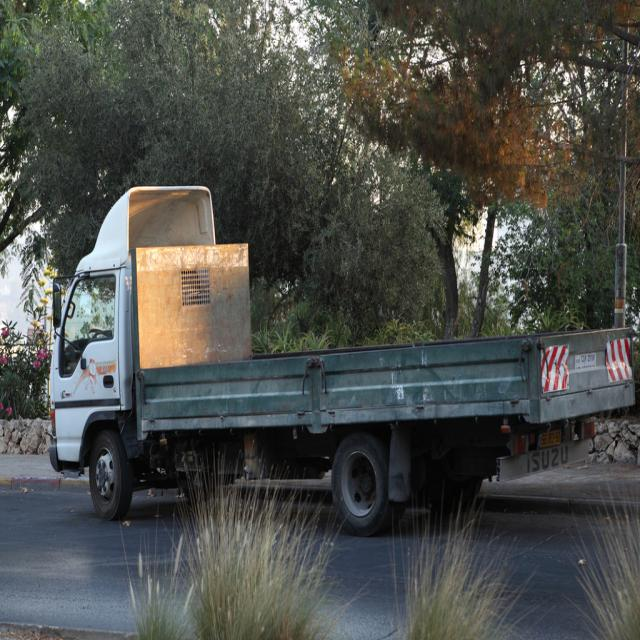Heavy Duty Truck: (44, 180, 633, 533)
